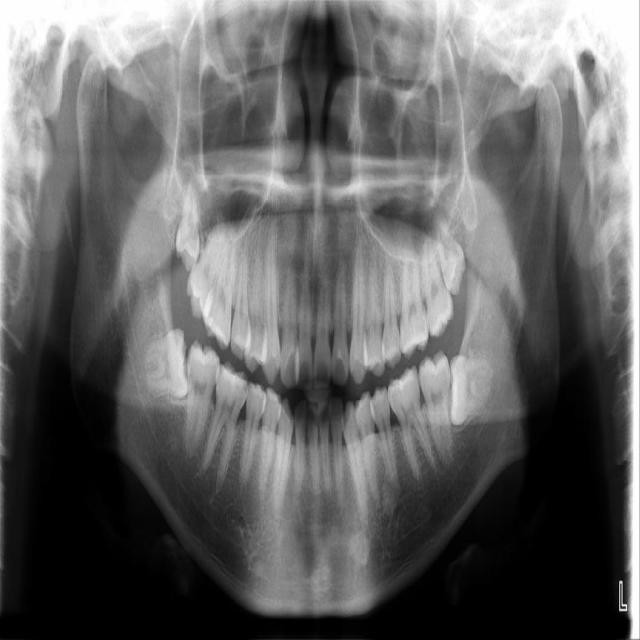3M ESPE Implant: (175, 183, 200, 272)
73: (600, 586, 607, 586)
BioHorizons Implant: (417, 236, 457, 340)
BioLife Implant: (428, 214, 474, 298)
Biomet 3i Implant: (449, 355, 493, 425)
Blue Sky Bio Implant: (418, 351, 453, 459)
Caries: (181, 219, 229, 321)
Implant: (183, 340, 221, 455)
Keystone Dental Implant: (144, 327, 189, 400)
